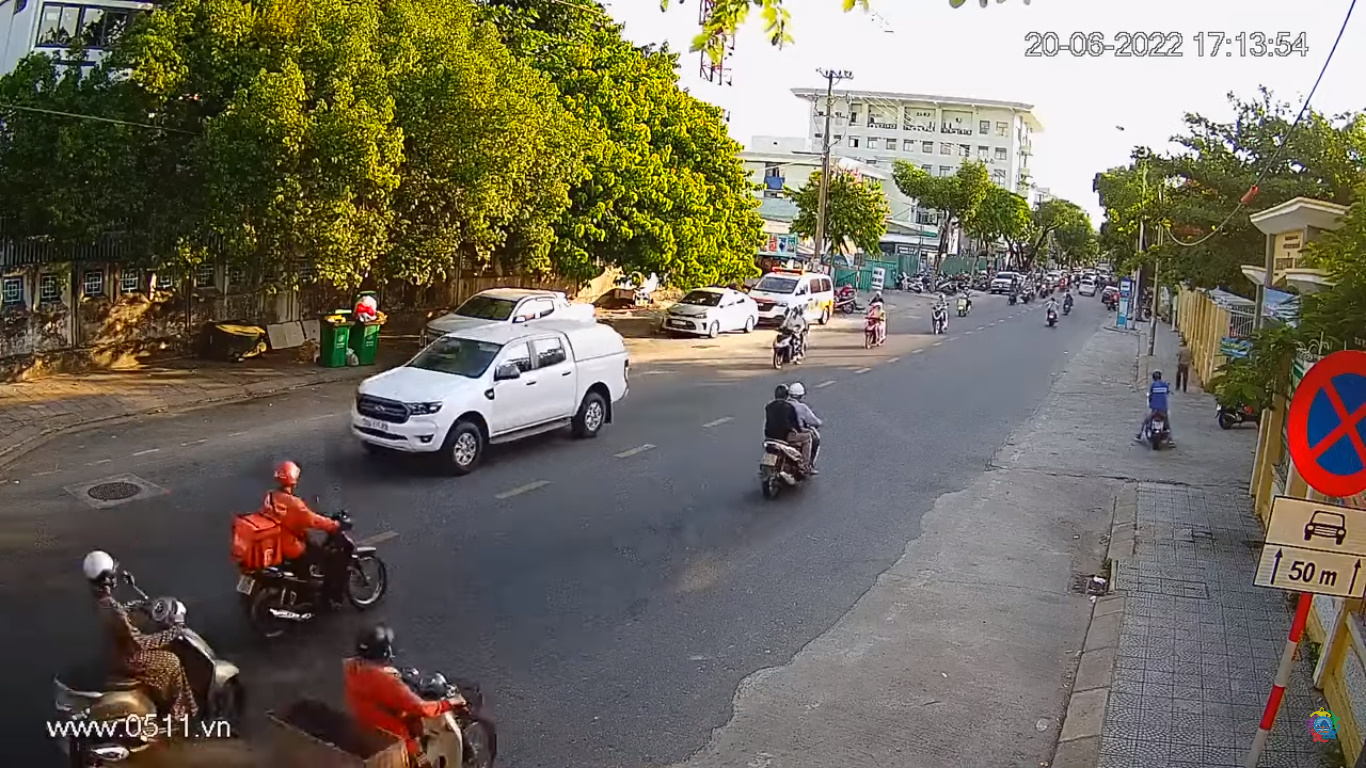car: (352, 317, 634, 469)
